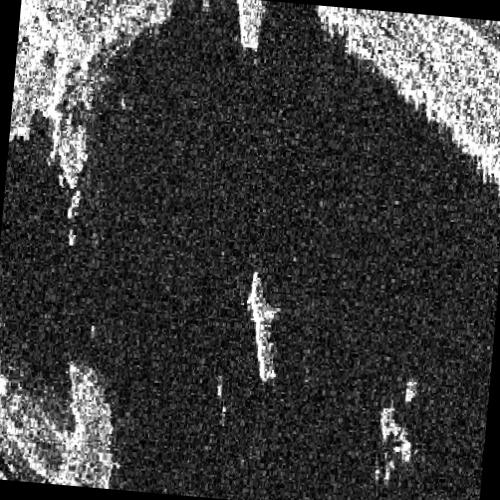ship: (244, 270, 277, 386)
